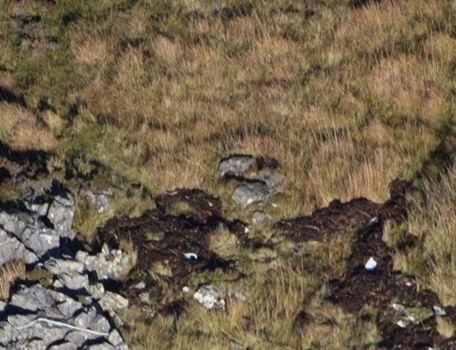tube: (14, 310, 111, 339)
white_in_green: (342, 236, 400, 291)
